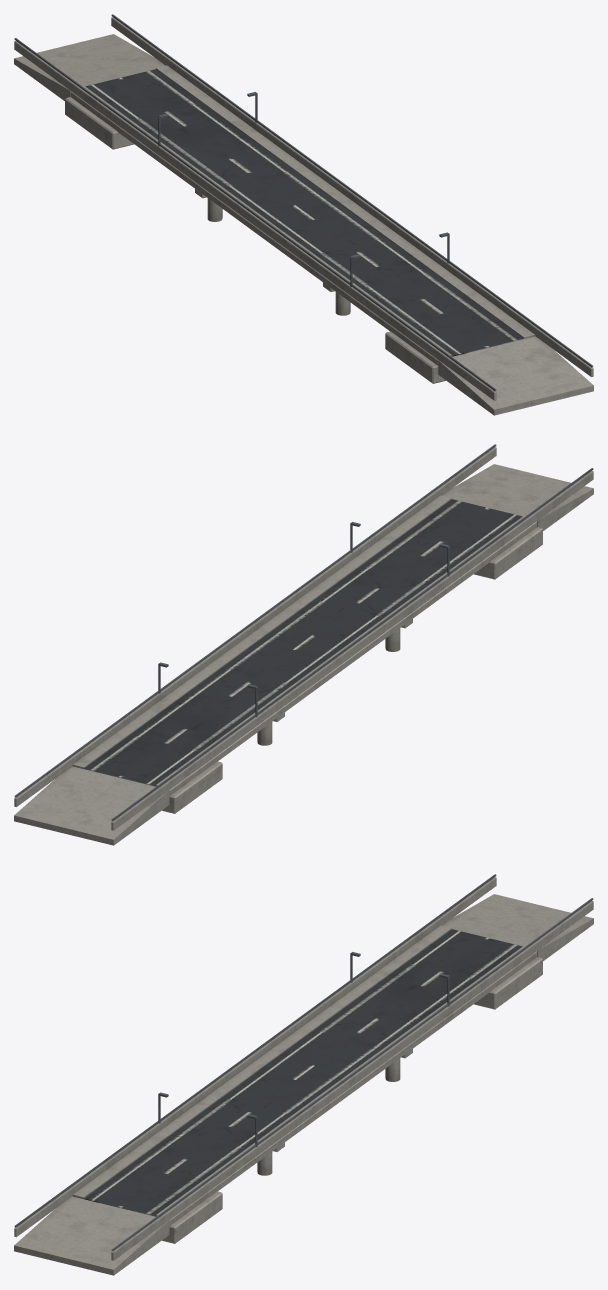
Rendered from road-bridge.fbx.
3 renders of one model, top to bottom at view 1: azimuth 30°, elevation 25°; view 2: azimuth 150°, elevation 25°; view 3: azimuth 330°, elevation 25°, orthographic.
Visible parts, largest first — view 1: road-bridge; view 2: road-bridge; view 3: road-bridge.
Boxes of the visible parts, x1=… form: road-bridge: x1=14, y1=14, x2=593, y2=415; road-bridge: x1=14, y1=444, x2=593, y2=845; road-bridge: x1=14, y1=874, x2=593, y2=1275.
Bounding box in the file's own units: 40 × 29.3 × 300.
Materials: 1 (1 with a texture image).
